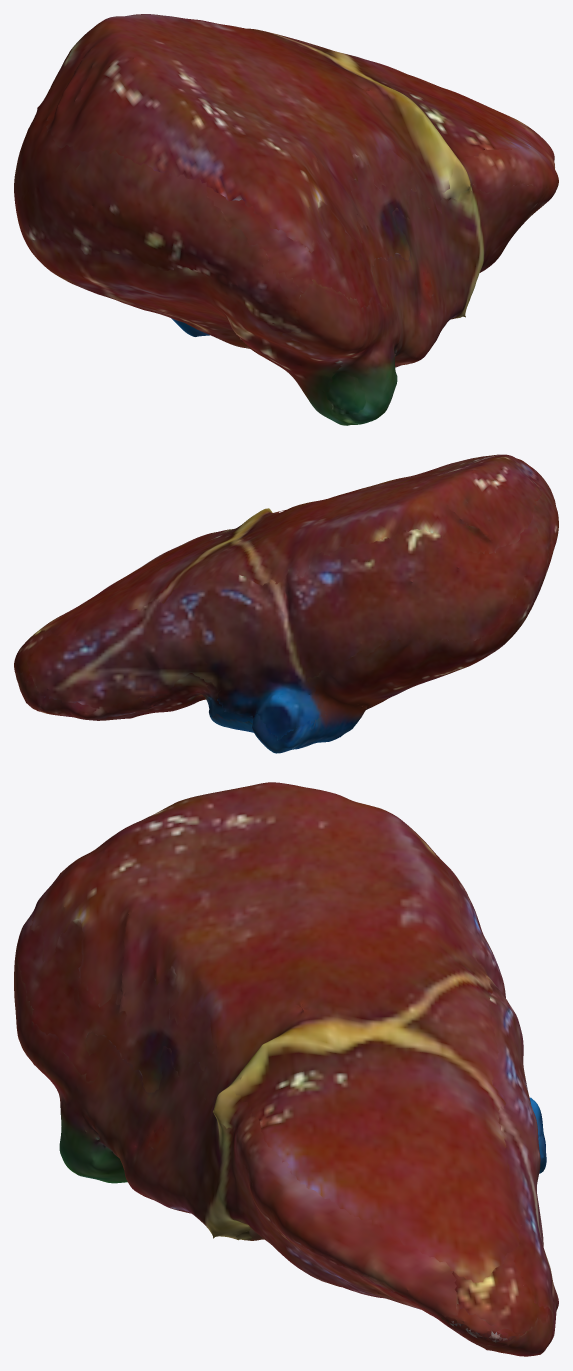
Rendered from liver3.glb.
3 renders of one model, top to bottom at view 1: azimuth 30°, elevation 25°; view 2: azimuth 150°, elevation 25°; view 3: azimuth 270°, elevation 25°, orthographic. The views are drawn at different scales.
Visible parts, largest first — view 1: Object_2, Object_3; view 2: Object_2, Object_3; view 3: Object_2, Object_3.
Part boxes in pixels (x1,y1,x2,y2): Object_2: (14, 14, 558, 425); Object_3: (35, 14, 349, 219); Object_2: (14, 454, 558, 753); Object_3: (260, 456, 554, 582); Object_2: (14, 782, 558, 1356); Object_3: (49, 792, 472, 982).
Bounding box in the file's own units: 86.7 × 47.81 × 67.72.
Materials: 1 (1 with a texture image).
